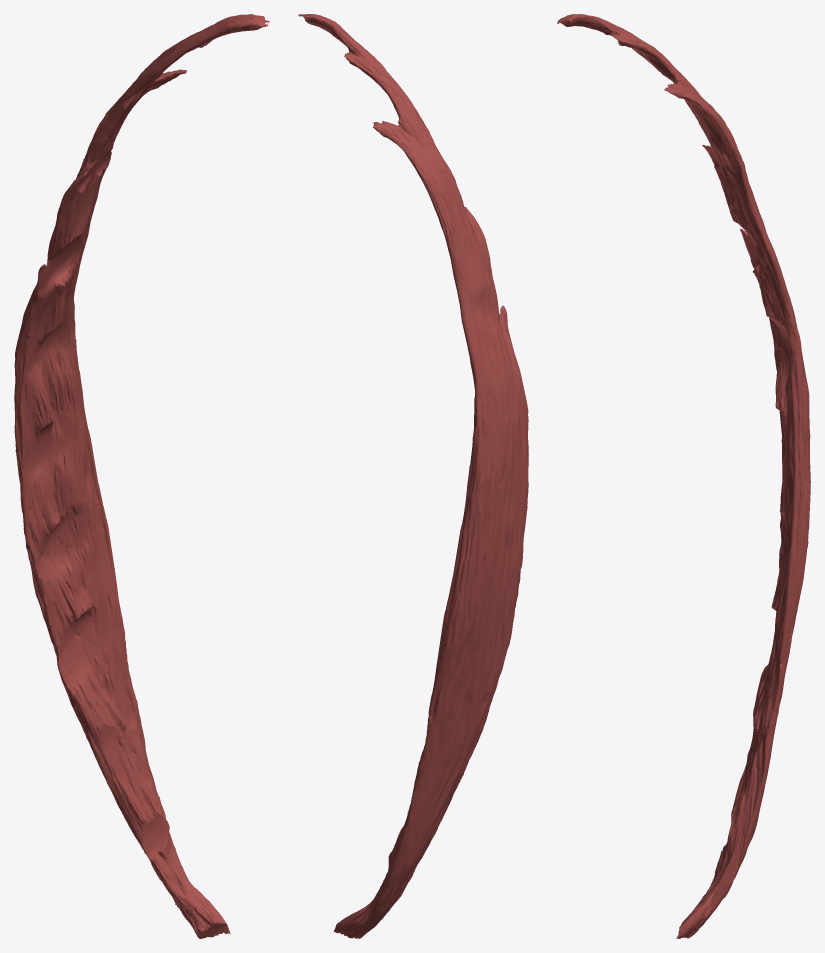
Rendered from FMA22742.glb.
3 renders of one model, left to right at view 1: azimuth 30°, elevation 25°; view 2: azimuth 210°, elevation 25°; view 3: azimuth 270°, elevation 25°, orthographic. The views are drawn at different scales.
Visible parts, largest first — view 1: FMA22742; view 2: FMA22742; view 3: FMA22742.
Part boxes in pixels (x1,y1,x2,y2): FMA22742: (14,14,269,938); FMA22742: (298,14,528,938); FMA22742: (557,14,810,938).
Bounding box in the file's own units: 0.053 × 0.3064 × 0.0771.
